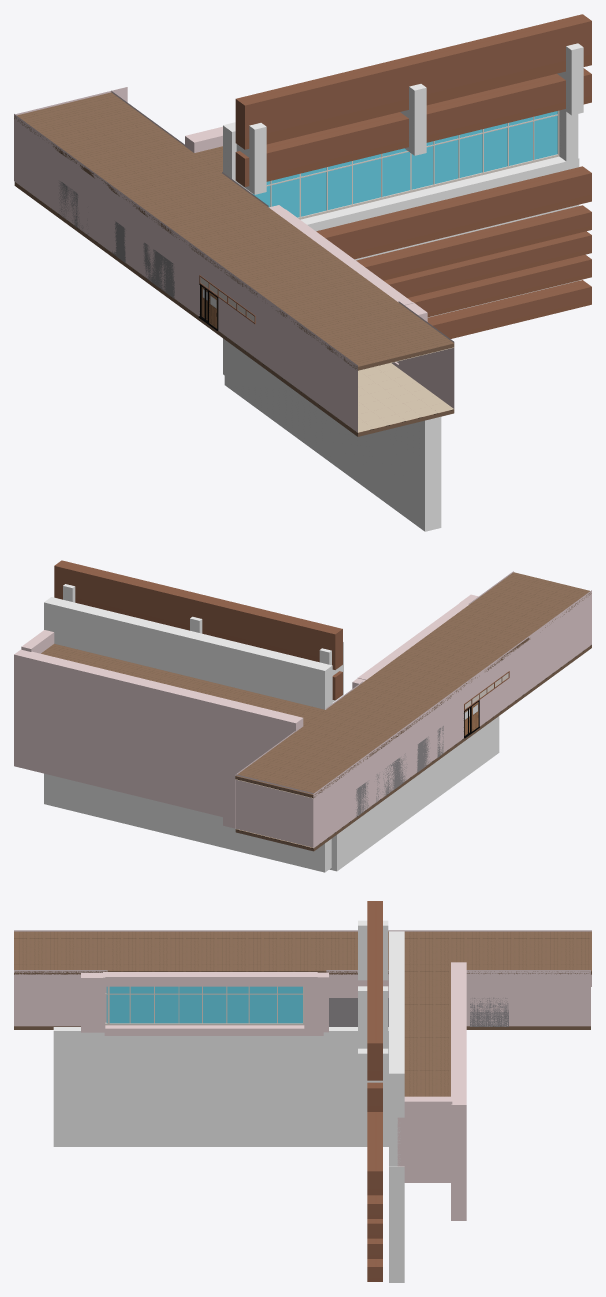
File: RiscuitsHallwayTest.gltf
The picture shows the model from 3 angles, top to bottom: view 1: azimuth 30°, elevation 25°; view 2: azimuth 150°, elevation 25°; view 3: azimuth 270°, elevation 25°; orthographic projection. The views are drawn at different scales.
Parts seen in each view (by area): view 1: cuboid (×17), plane; view 2: cuboid (×8); view 3: cuboid (×15), plane.
Part boxes in pixels (x1,y1,x2,y2): cuboid (×17): [185, 14, 591, 531]; plane: [253, 111, 557, 217]; cuboid (×8): [14, 560, 499, 872]; cuboid (×15): [53, 901, 466, 1282]; plane: [106, 986, 302, 1023].
Bounding box in the file's own units: 27.69 × 17.09 × 37.
Materials: 11 (10 with a texture image).
